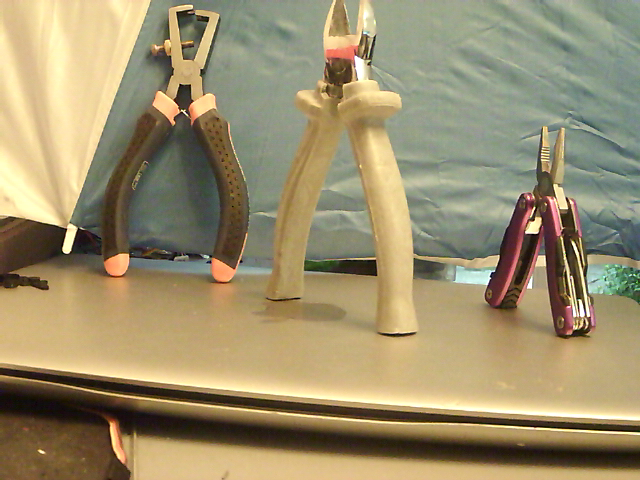pliers: (266, 1, 423, 339), (484, 117, 599, 339)
